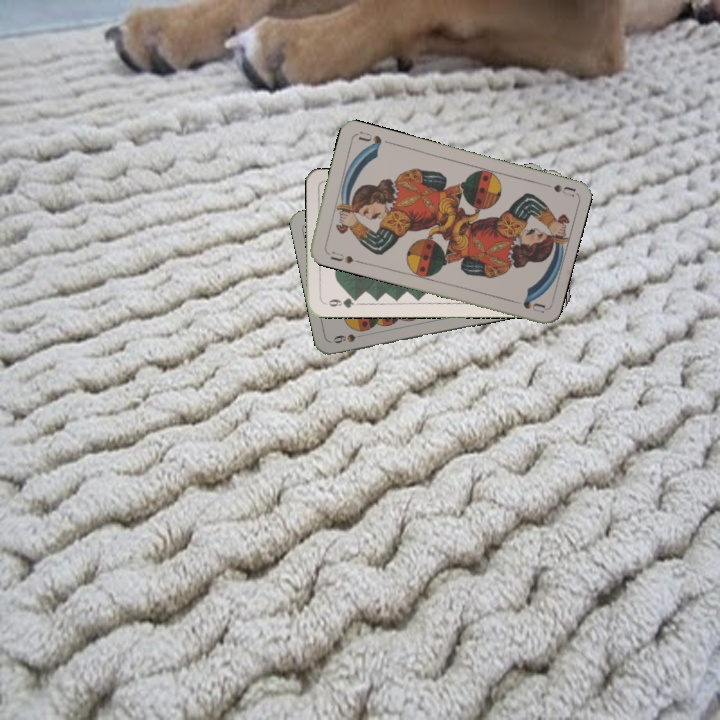G9: (325, 293, 361, 310)
S9: (329, 330, 369, 346)
SU: (536, 178, 577, 200), (322, 247, 356, 266)
